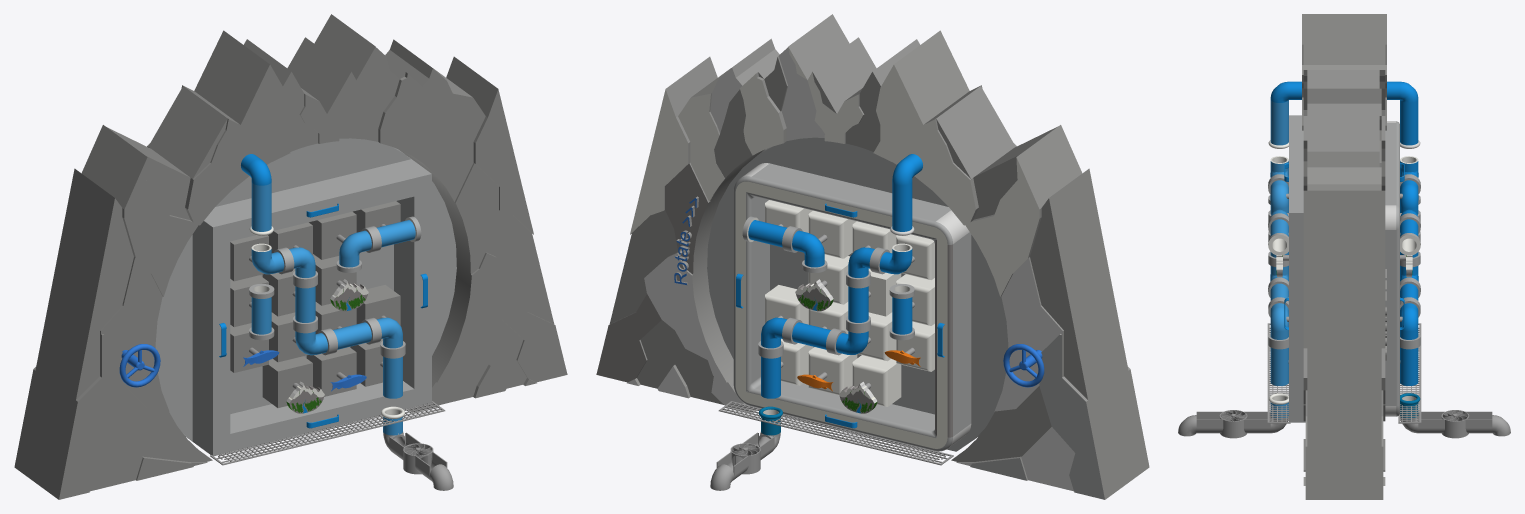
3 renders of one model, left to right at view 1: azimuth 30°, elevation 25°; view 2: azimuth 150°, elevation 25°; view 3: azimuth 270°, elevation 25°, orthographic. The views are drawn at different scales.
Parts seen in each view (by area): view 1: Mountain:1_dcd1ef, Mainbody:1, Blocks:1, Mainbody(Mirror):1_5e742b, Pipes:1, Turbine:1, Pipes:1_e68fa9, Crank (Mirror):1, Mountain :1_17bdfd, Handles (Mirror):1, Pipes:1_fd8e26, Fish:1; view 2: Mountain:1_dcd1ef, Mountain:1_ce7358, Mainbody:1, Blocks(Mirror):1, Mainbody(Mirror):1_5e742b, Mountain:1, Mainbody(Mirror):1_ded785, Pipes(Mirror):1_3df93e, Mountain:1_e8df48, Mountain:1_5bb5af, Turbine(Mirror):1, Pipes(Mirror):1_a168a0 (+7 smaller); view 3: Mountain:1_dcd1ef, Pipes:1, Mainbody:1, Mainbody(Mirror):1_5e742b, Turbine(Mirror):1, Turbine:1, Pipes(Mirror):1_3df93e, Pipes(Mirror):1_a168a0, Pipes:1_e68fa9, Pipes:1_fd8e26, Pipes(Mirror):1_2a9323, Mainbody(Mirror):1_15f180.
Boxes of the visible parts, box(x1,y1,x2,y2) form: Mountain:1_dcd1ef: box(14, 14, 567, 499); Mainbody:1: box(185, 156, 431, 456); Blocks:1: box(230, 201, 400, 407); Mainbody(Mirror):1_5e742b: box(155, 138, 456, 441); Pipes:1: box(241, 154, 415, 435); Turbine:1: box(210, 401, 453, 490); Pipes:1_e68fa9: box(249, 216, 421, 358); Crank (Mirror):1: box(119, 344, 160, 387); Mountain :1_17bdfd: box(289, 282, 367, 413); Handles (Mirror):1: box(219, 203, 427, 428); Pipes:1_fd8e26: box(249, 217, 416, 434); Fish:1: box(243, 350, 366, 391); Mountain:1_dcd1ef: box(609, 14, 1149, 499); Mountain:1_ce7358: box(630, 47, 1039, 296); Mainbody:1: box(707, 137, 1008, 451); Blocks(Mirror):1: box(765, 200, 934, 406); Mainbody(Mirror):1_5e742b: box(733, 163, 971, 451); Mountain:1: box(627, 47, 1075, 491); Mainbody(Mirror):1_ded785: box(735, 181, 947, 448); Pipes(Mirror):1_3df93e: box(748, 208, 912, 398); Mountain:1_e8df48: box(596, 163, 707, 382); Mountain:1_5bb5af: box(970, 334, 1104, 499); Turbine(Mirror):1: box(710, 401, 953, 490); Pipes(Mirror):1_a168a0: box(742, 216, 914, 358); Mountain:1_dcd1ef: box(1302, 14, 1386, 499); Pipes:1: box(1270, 81, 1418, 419); Mainbody:1: box(1289, 115, 1305, 422); Mainbody(Mirror):1_5e742b: box(1385, 121, 1399, 416); Turbine(Mirror):1: box(1398, 323, 1510, 438); Turbine:1: box(1178, 323, 1290, 438); Pipes(Mirror):1_3df93e: box(1400, 124, 1418, 385); Pipes(Mirror):1_a168a0: box(1400, 174, 1420, 349); Pipes:1_e68fa9: box(1268, 174, 1288, 349); Pipes:1_fd8e26: box(1268, 140, 1288, 404); Pipes(Mirror):1_2a9323: box(1400, 156, 1420, 400); Mainbody(Mirror):1_15f180: box(1385, 121, 1396, 416).
Size of the model in its own units: 0.2909 by 0.22 by 0.1799.
